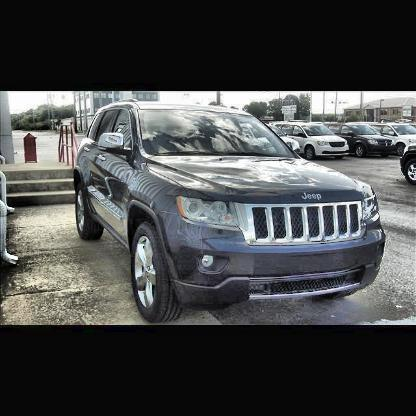Jeep Grand Cherokee SUV 2012: (75, 99, 388, 325)
